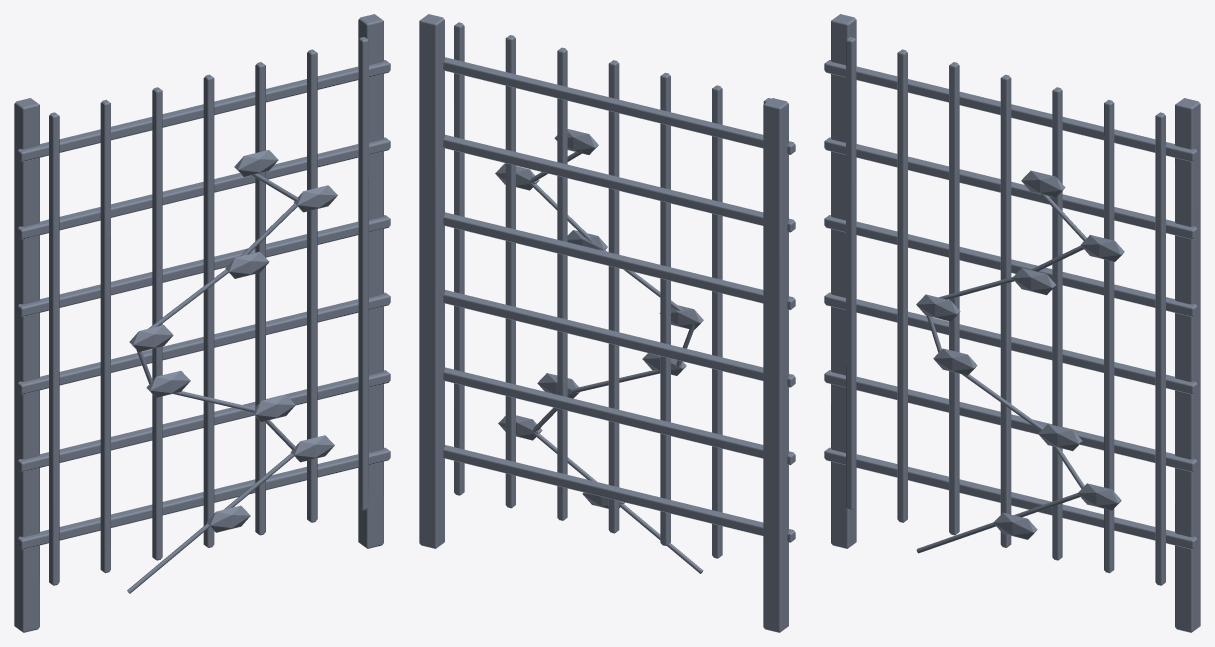
File: 格栅廊架-lite.glb
The picture shows the model from 3 angles, left to right: view 1: azimuth 30°, elevation 25°; view 2: azimuth 150°, elevation 25°; view 3: azimuth 330°, elevation 25°; orthographic projection.
Parts seen in each view (by area): view 1: garden-trellis; view 2: garden-trellis; view 3: garden-trellis.
Part boxes in pixels (x1,y1,x2,y2): garden-trellis: (14, 14, 390, 632); garden-trellis: (419, 14, 795, 632); garden-trellis: (824, 14, 1200, 632).
Bounding box in the file's own units: 1.4 × 1.9 × 0.15.
